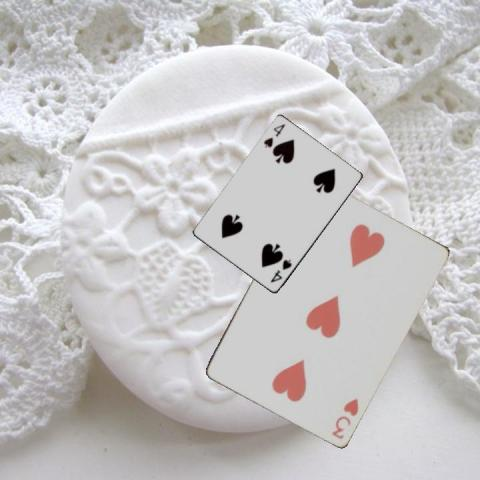3h: (329, 395, 360, 440)
4s: (260, 121, 286, 150), (268, 256, 294, 284)
